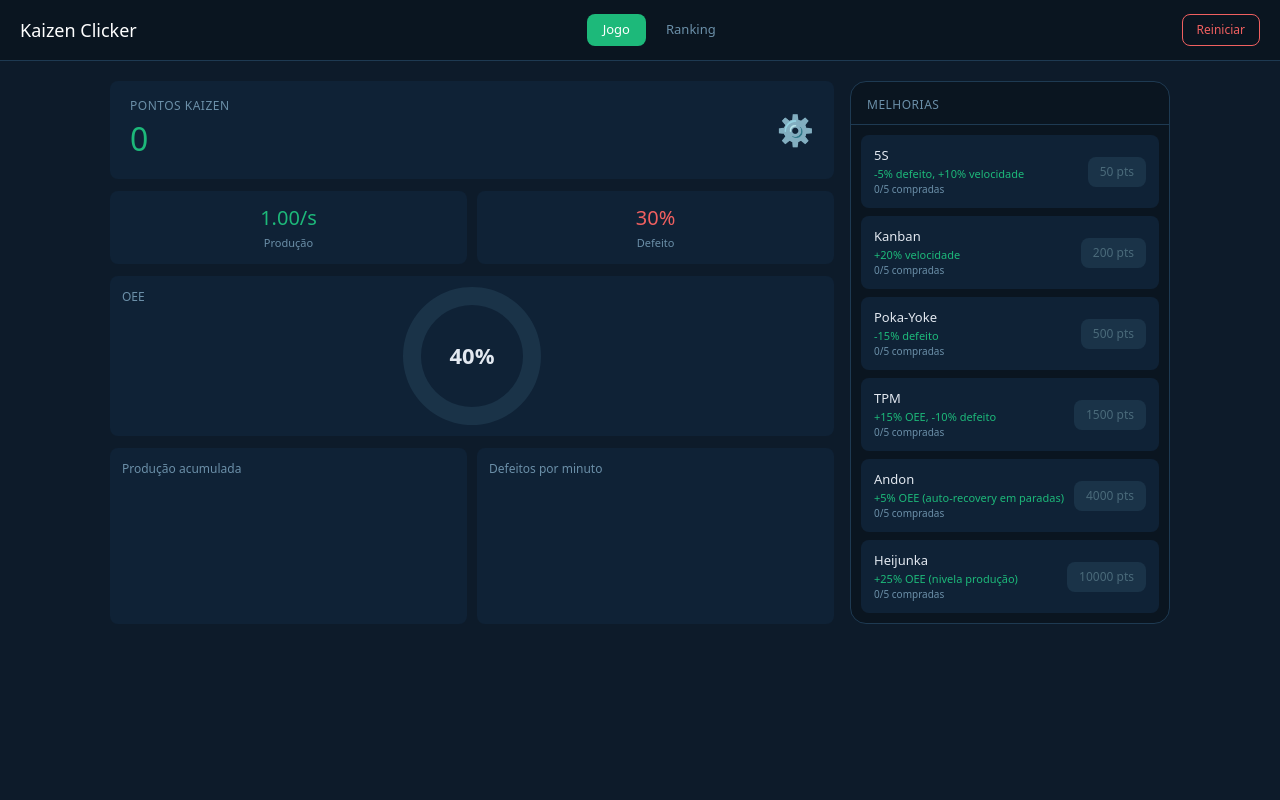
Test case: App › alterna para a tela de Ranking ao clicar no botão correspondente
The width and height of the screenshot is (1280, 800).
Click the button "Ranking": [691, 30] box [650,14,732,46]
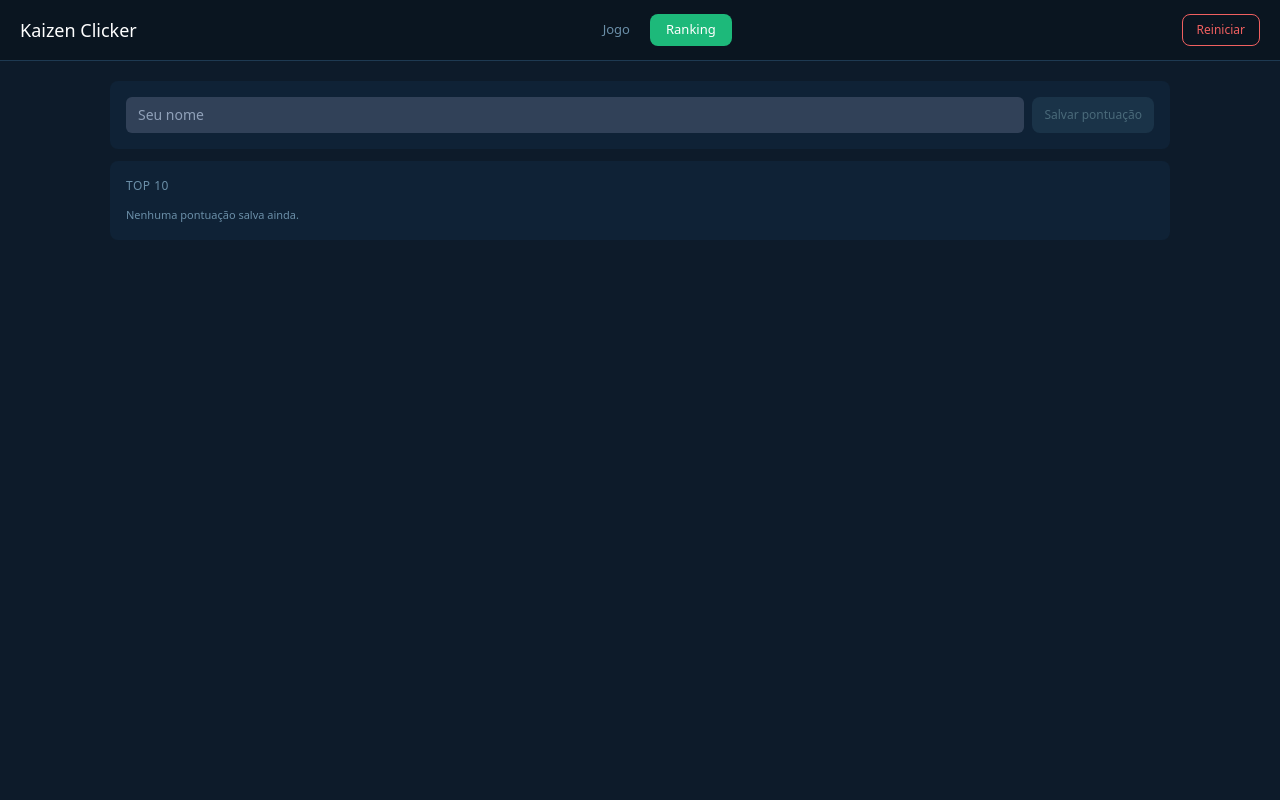
Expected: the text "Nenhuma pontuação salva ainda." is shown, [126,207,299,222]
